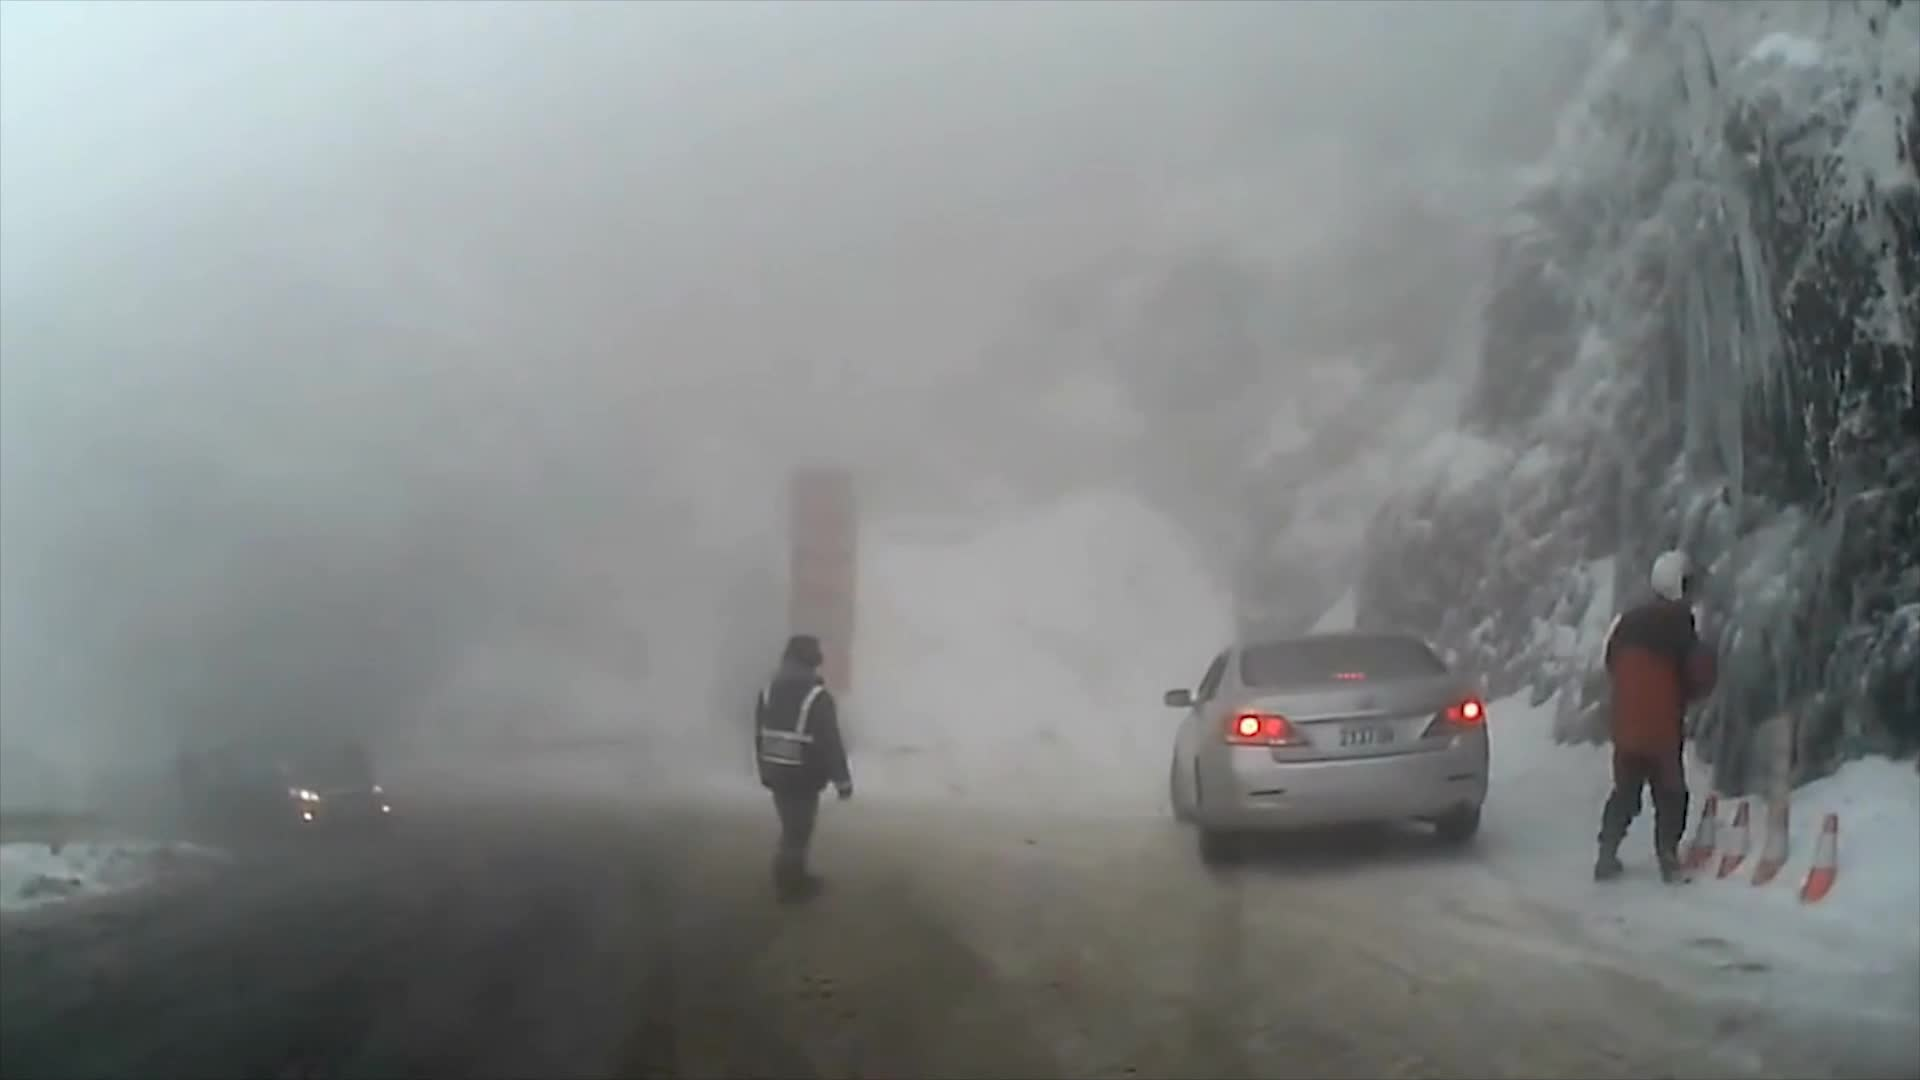pedestrian: (1585, 545, 1727, 888), (760, 642, 859, 909)
vehicle: (1162, 630, 1488, 870)
